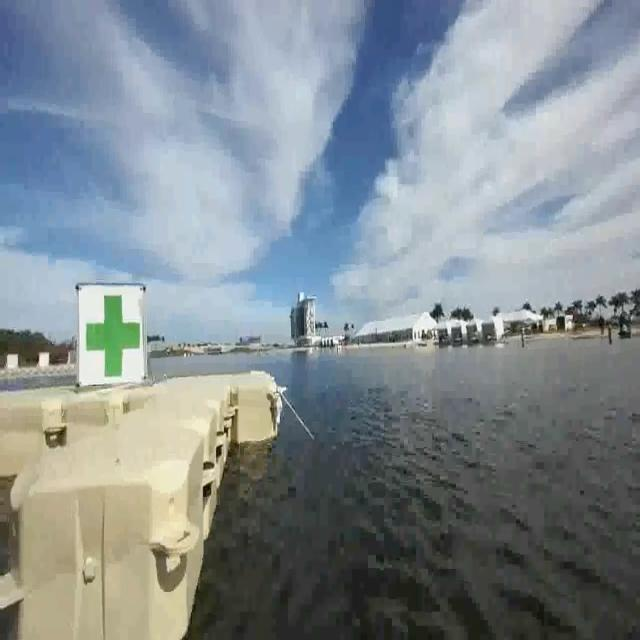blue-cross: (75, 286, 147, 384)
